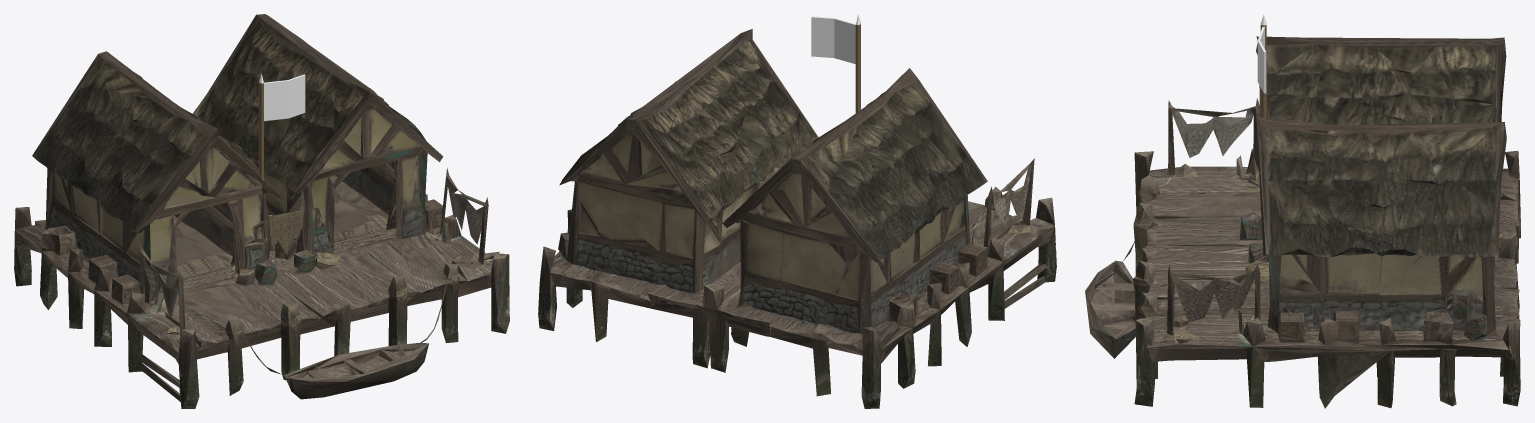
The picture shows the model from 3 angles, left to right: view 1: azimuth 30°, elevation 25°; view 2: azimuth 150°, elevation 25°; view 3: azimuth 270°, elevation 25°; orthographic projection. The views are drawn at different scales.
Parts seen in each view (by area): view 1: tide_harbor, Team_banner; view 2: tide_harbor, Team_banner; view 3: tide_harbor, Team_banner.
Boxes of the visible parts, box(x1,y1,x2,y2) form: tide_harbor: box(14, 14, 509, 408); Team_banner: box(259, 73, 305, 180); tide_harbor: box(538, 29, 1056, 408); Team_banner: box(811, 14, 860, 112); tide_harbor: box(1085, 36, 1520, 408); Team_banner: box(1257, 14, 1266, 117).
Size of the model in its own units: 1.85 by 1.43 by 1.88.
Materials: 3 (1 with a texture image).
